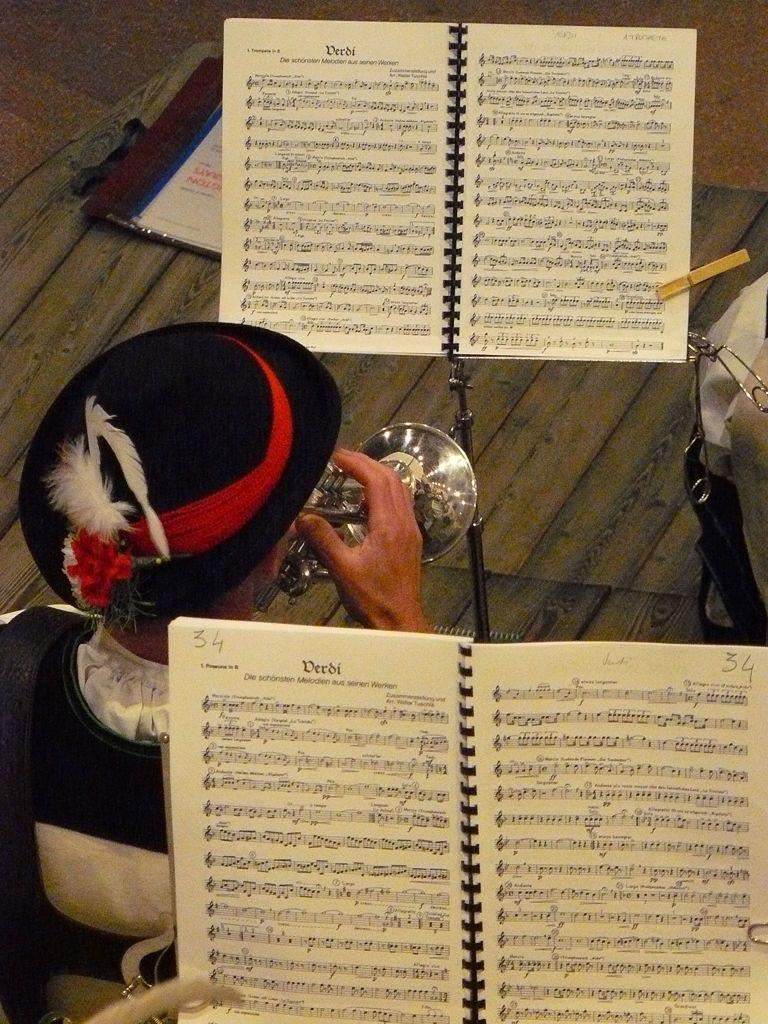Hat: (16, 317, 340, 624)
